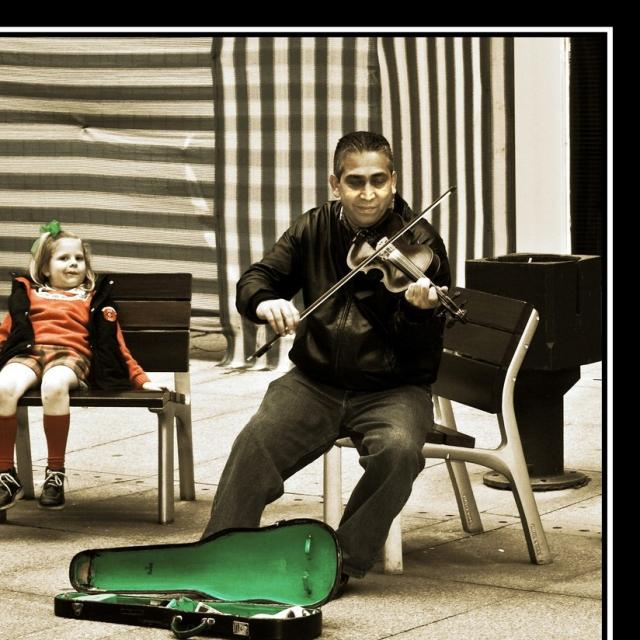violin: (344, 209, 471, 331)
